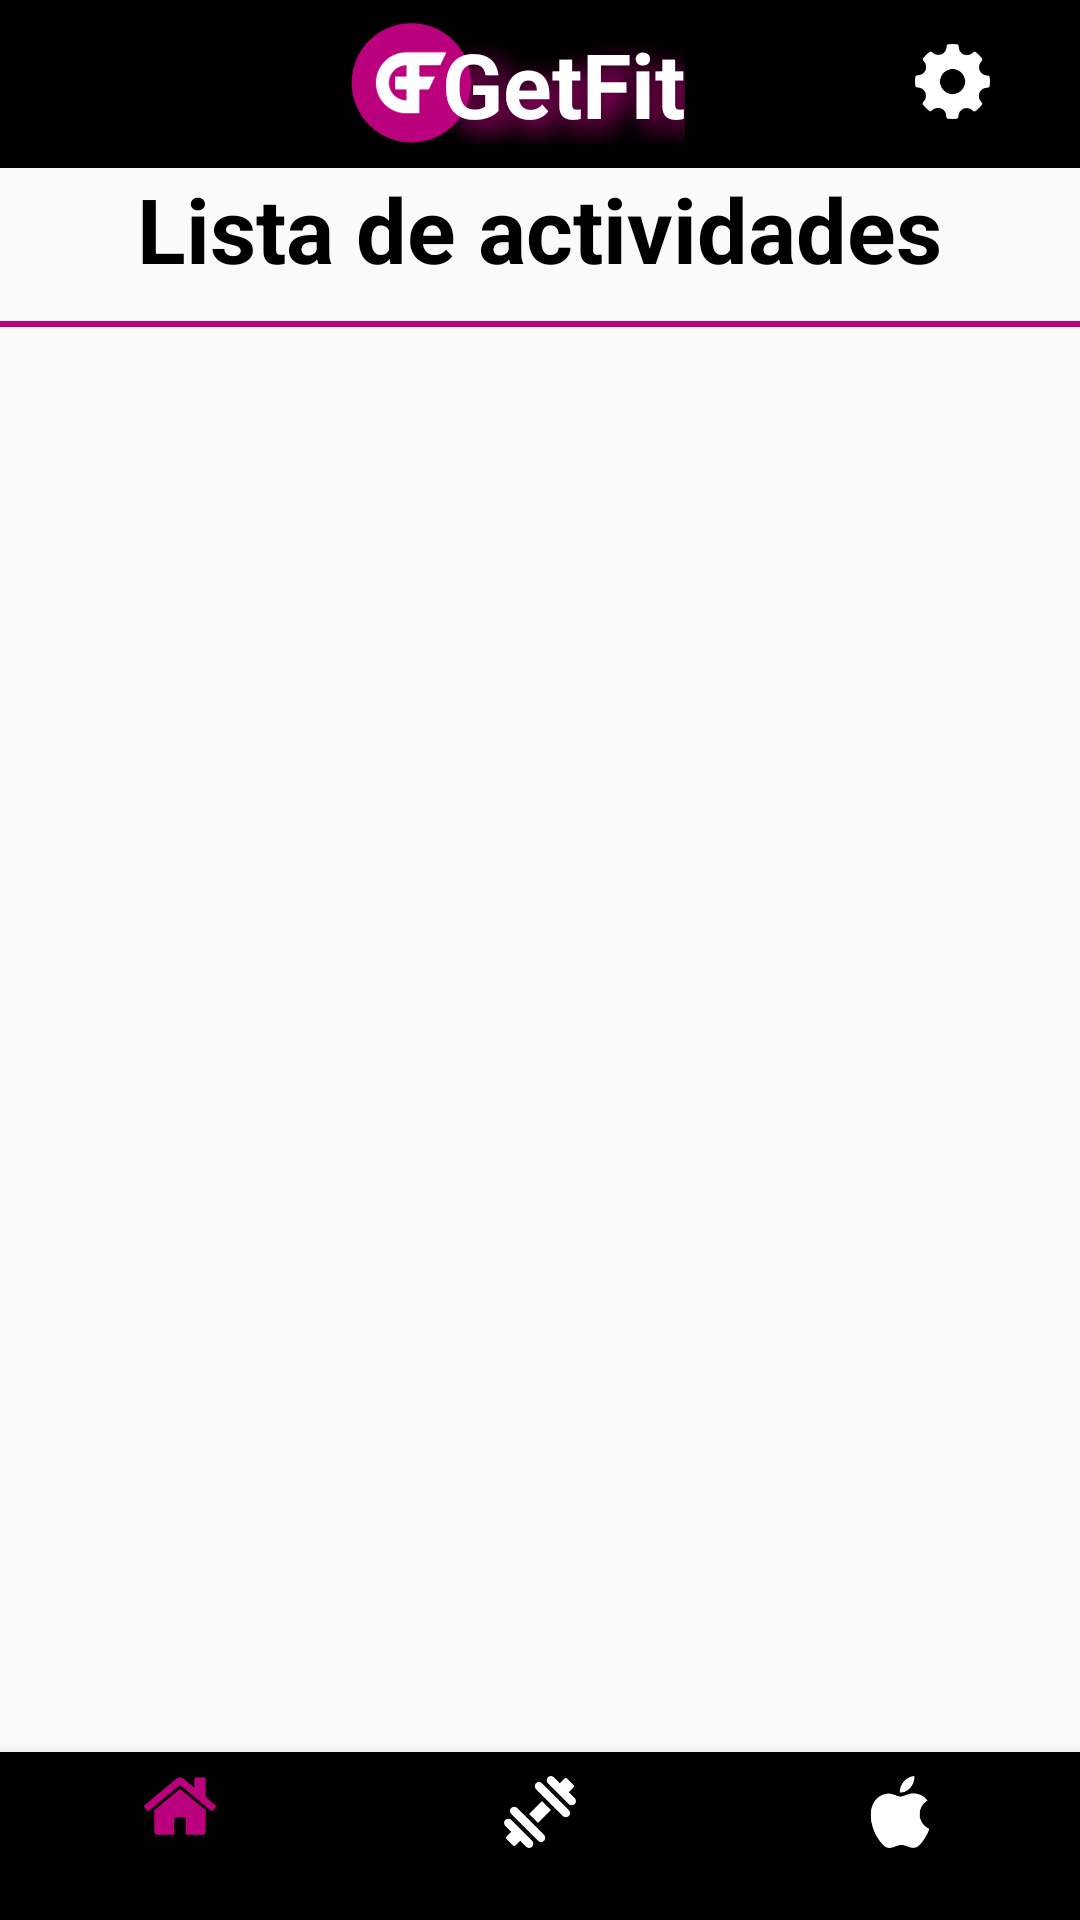

Screen size 1080w x 1920h. Icon name, then its box in pixels as (x1, y1, x2, y2):
ajustes: (915, 44, 990, 119)
